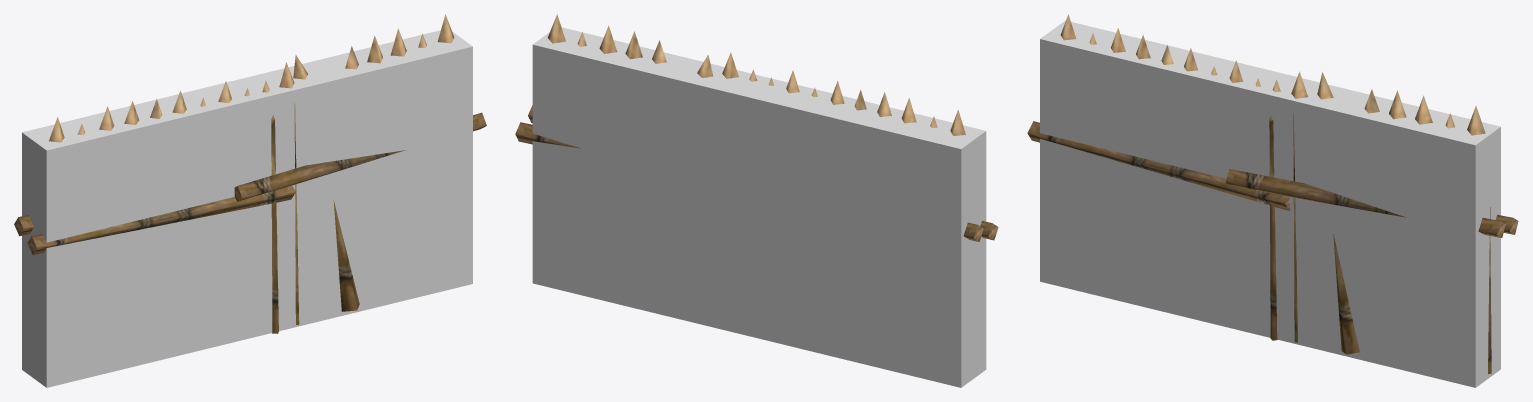
File: YHJ_langan_d.FBX
The picture shows the model from 3 angles, left to right: view 1: azimuth 30°, elevation 25°; view 2: azimuth 150°, elevation 25°; view 3: azimuth 330°, elevation 25°; orthographic projection. The views are drawn at different scales.
Parts seen in each view (by area): view 1: YHJ_langan_d-col, YHJ_langan_d; view 2: YHJ_langan_d-col, YHJ_langan_d; view 3: YHJ_langan_d-col, YHJ_langan_d.
Part boxes in pixels (box(x1,y1,x2,y2)): YHJ_langan_d-col: box(22, 30, 472, 387); YHJ_langan_d: box(14, 14, 486, 333); YHJ_langan_d-col: box(532, 27, 986, 387); YHJ_langan_d: box(515, 14, 998, 241); YHJ_langan_d-col: box(1040, 20, 1500, 387); YHJ_langan_d: box(1027, 14, 1518, 373).
Bounding box in the file's own units: 3.26 × 1.83 × 0.4293.
